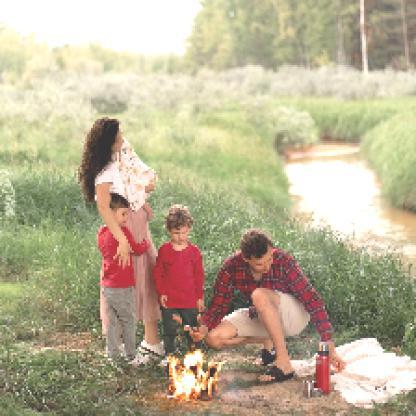child: (153, 204, 207, 366), (102, 192, 152, 363), (121, 140, 160, 222)
